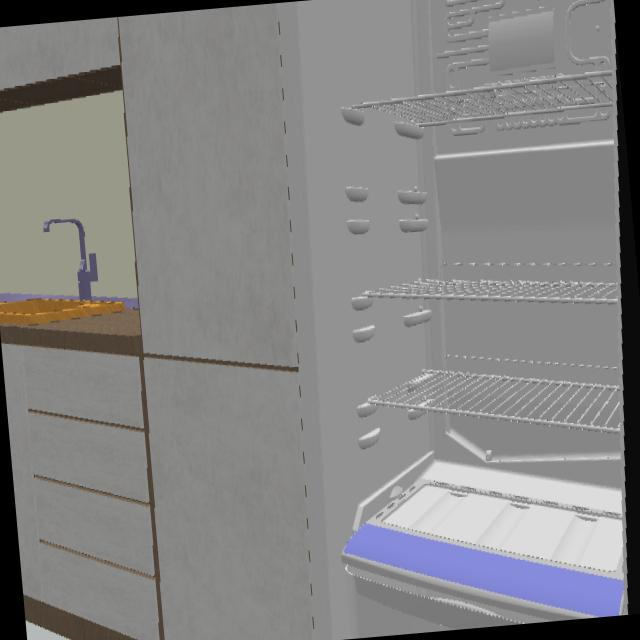countertop: (0, 309, 143, 356)
fridge: (276, 0, 627, 640)
sink: (0, 294, 138, 332)
